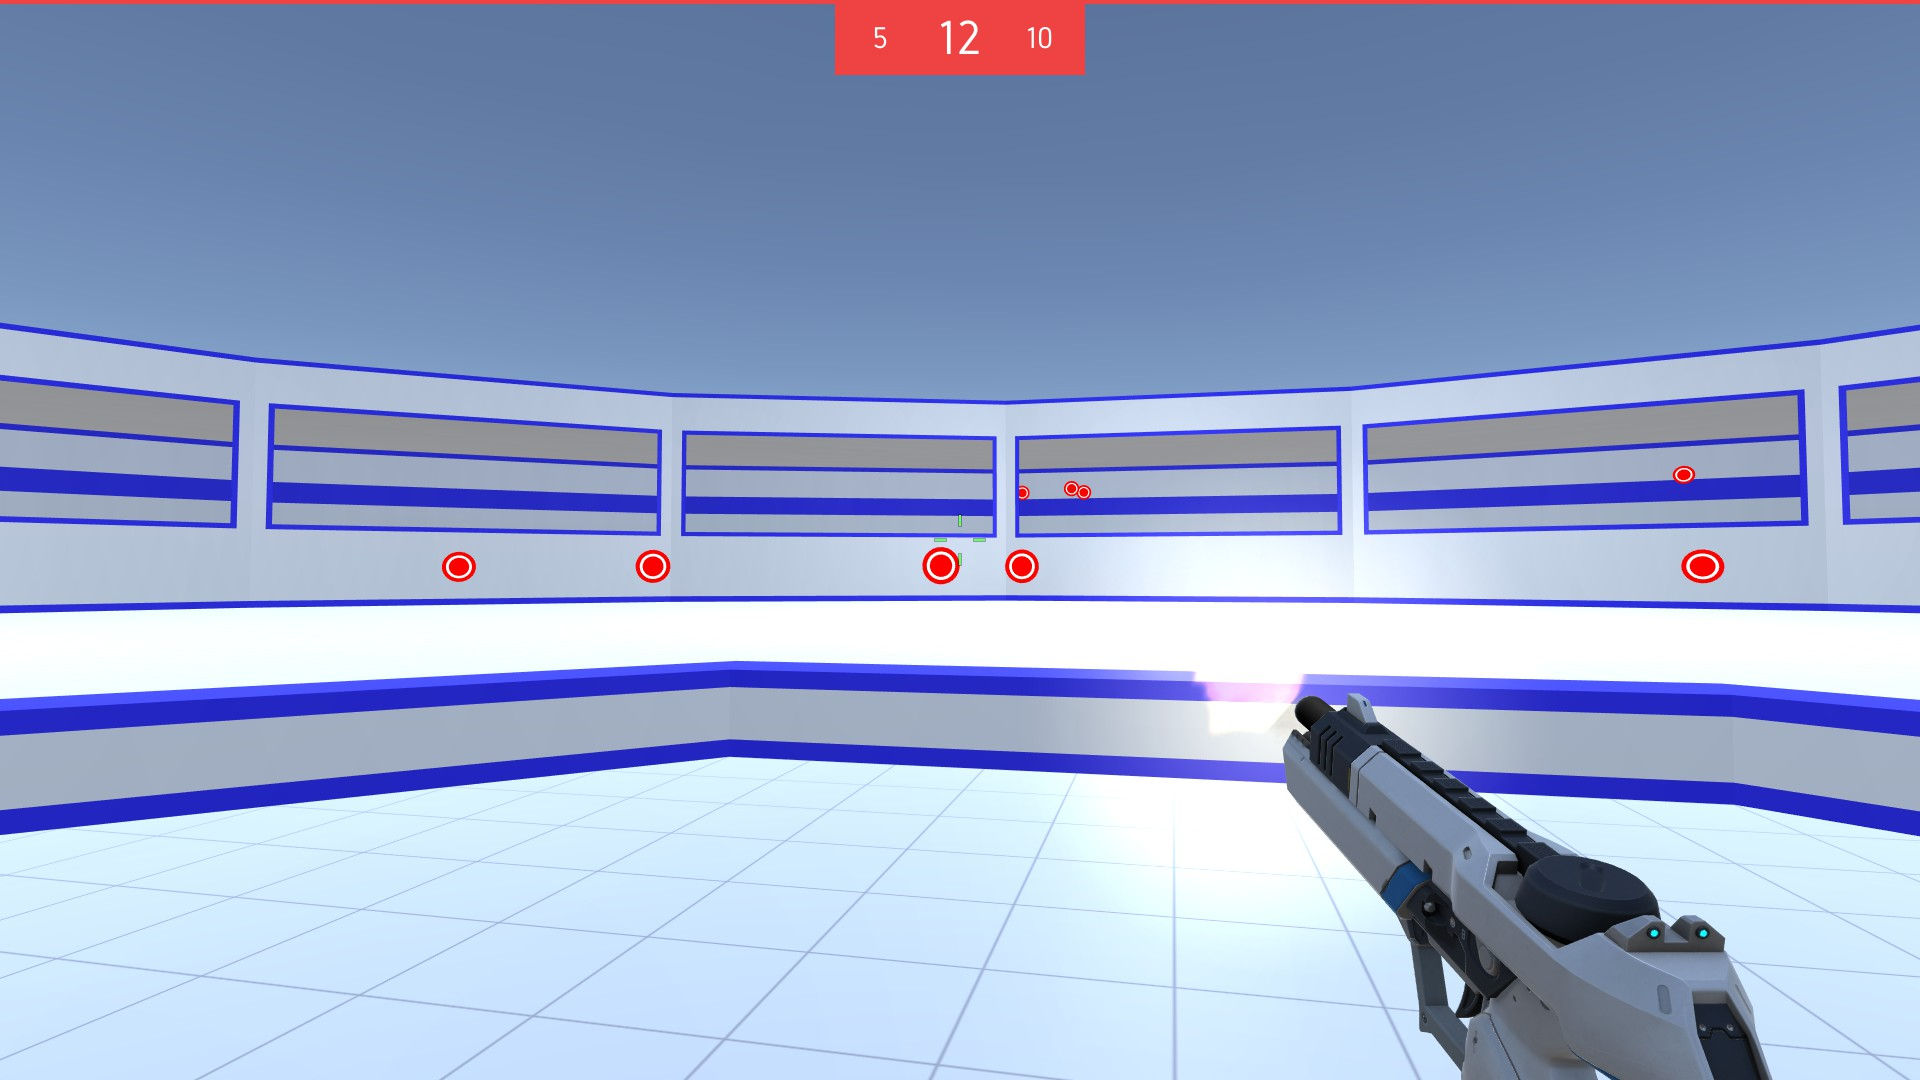target: (922, 546, 963, 585), (1681, 547, 1726, 583), (1004, 547, 1042, 584), (636, 549, 673, 584), (440, 550, 479, 582), (1672, 464, 1698, 485), (1075, 485, 1091, 502), (1064, 481, 1079, 497), (1017, 485, 1030, 501)
